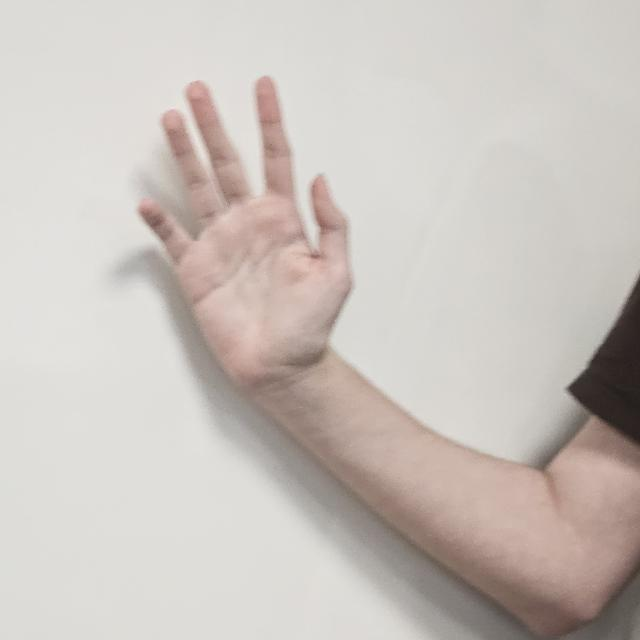X: (133, 72, 354, 388)
